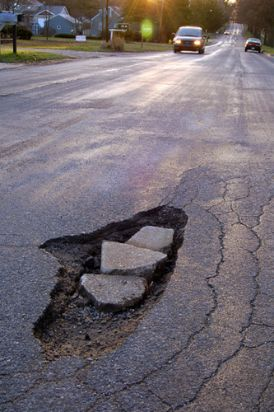pothole: (29, 202, 191, 368)
